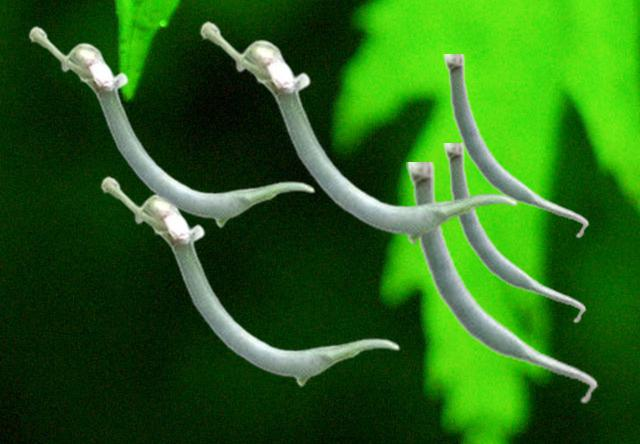french_bean: (199, 20, 517, 244), (100, 175, 399, 386), (28, 25, 314, 227), (406, 162, 597, 404), (443, 54, 588, 238), (443, 143, 585, 323)
